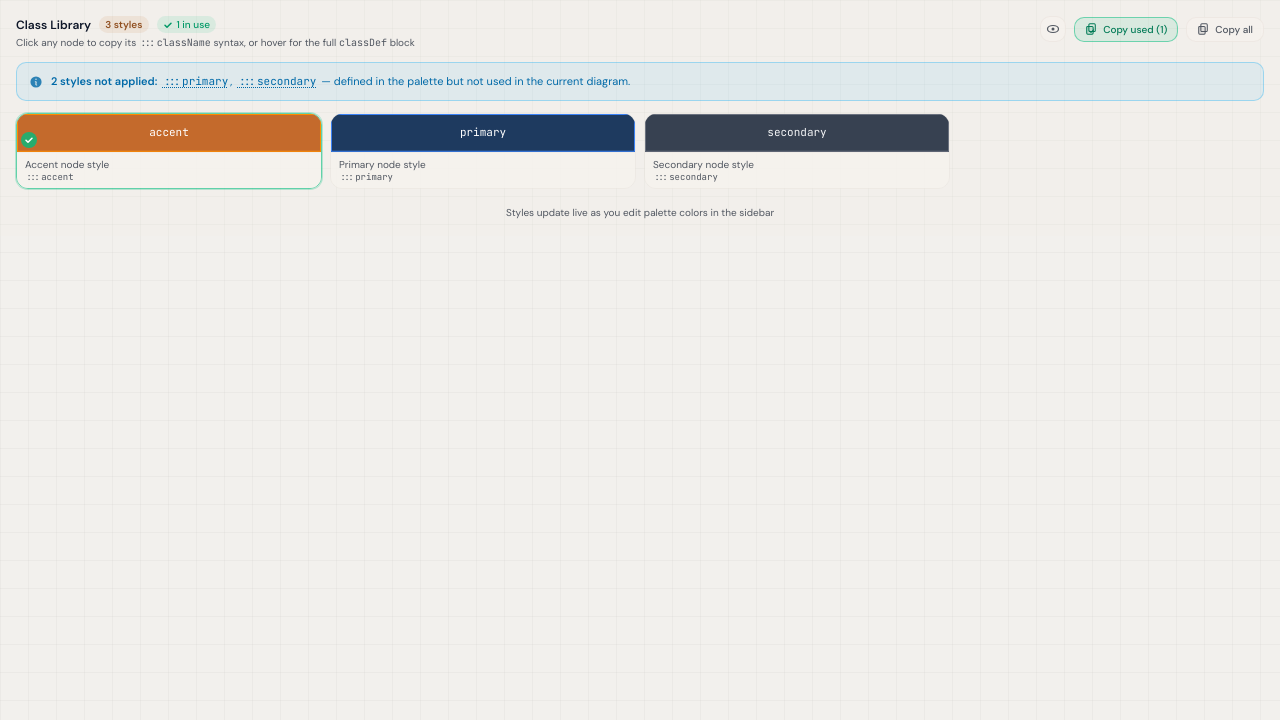
Scenario: ClassBrowser preview — All/Used toggle visibility › shows the toggle group for a single used class
What coordinates should you click on to do the following:
click the button named "Preview all classDefs"
I would click on:
 (1053, 29)
Its box is [1040, 16, 1066, 42].
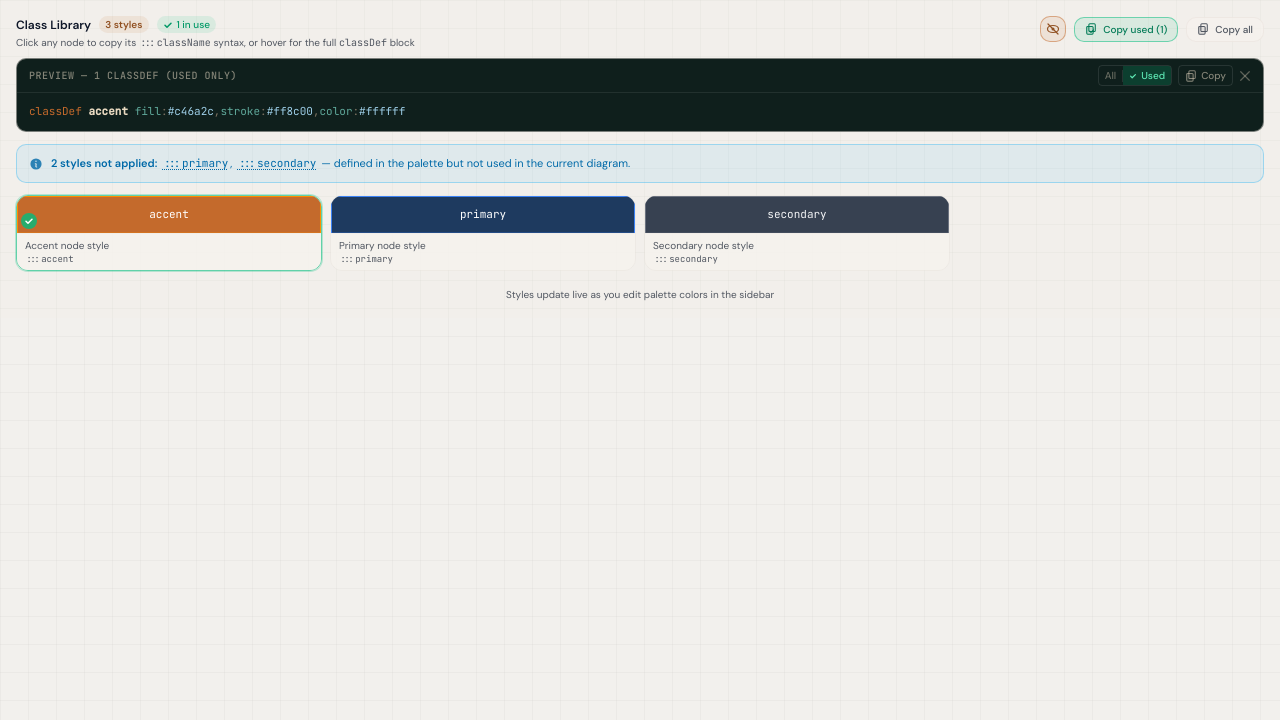
Now the element named "Preview mode" is shown, box [1098, 65, 1172, 86]
